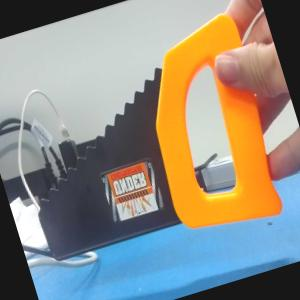serrote: (0, 12, 283, 282)
